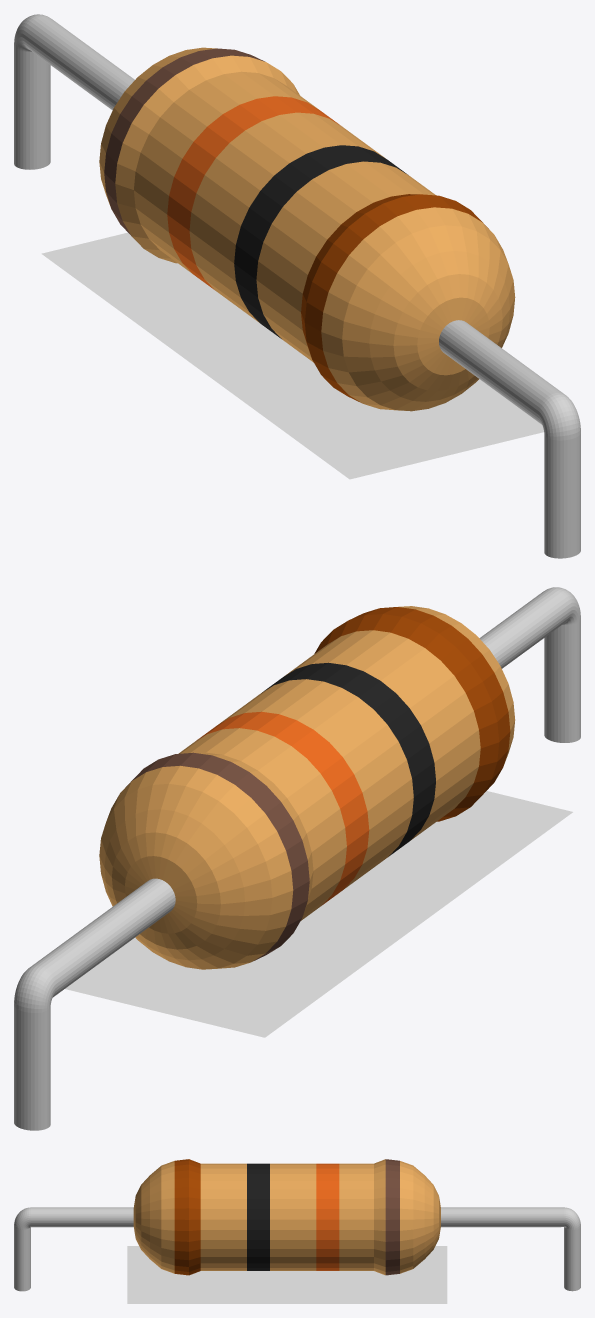
3 renders of one model, top to bottom at view 1: azimuth 30°, elevation 25°; view 2: azimuth 150°, elevation 25°; view 3: azimuth 270°, elevation 25°, orthographic. The views are drawn at different scales.
Visible parts, largest first — view 1: R_18, R_18_plane; view 2: R_18, R_18_plane; view 3: R_18, R_18_plane.
Boxes of the visible parts, left/top/right/bottom form: R_18: left=14, top=14, right=580, bottom=558; R_18_plane: left=41, top=232, right=543, bottom=479; R_18: left=14, top=587, right=580, bottom=1130; R_18_plane: left=65, top=791, right=572, bottom=1037; R_18: left=14, top=1159, right=580, bottom=1291; R_18_plane: left=127, top=1246, right=447, bottom=1303.
Size of the model in its own units: 0.0161 by 0.0159 by 0.0664.
